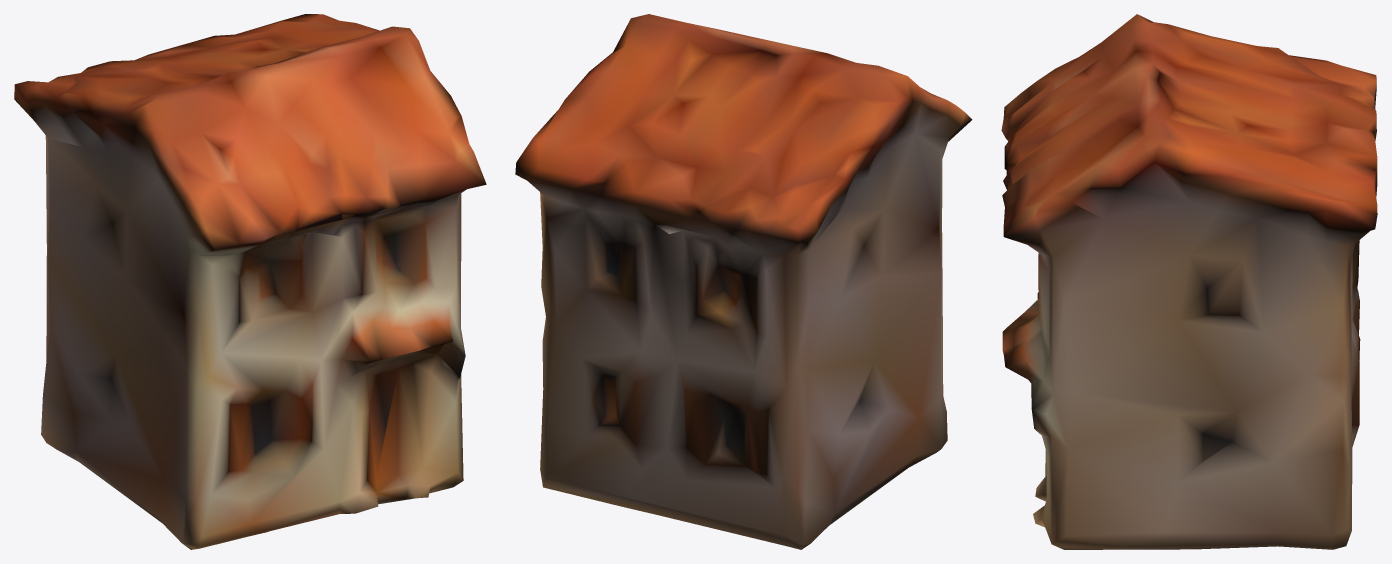
File: villageHouse.glb
The picture shows the model from 3 angles, left to right: view 1: azimuth 30°, elevation 25°; view 2: azimuth 150°, elevation 25°; view 3: azimuth 270°, elevation 25°; orthographic projection. The views are drawn at different scales.
Parts seen in each view (by area): view 1: VillageHouseMesh; view 2: VillageHouseMesh; view 3: VillageHouseMesh.
Part boxes in pixels (bbox=[...]): VillageHouseMesh: bbox=[14, 14, 486, 549]; VillageHouseMesh: bbox=[515, 14, 972, 549]; VillageHouseMesh: bbox=[1001, 14, 1377, 549].
Bounding box in the file's own units: 3.94 × 5.35 × 4.39.
